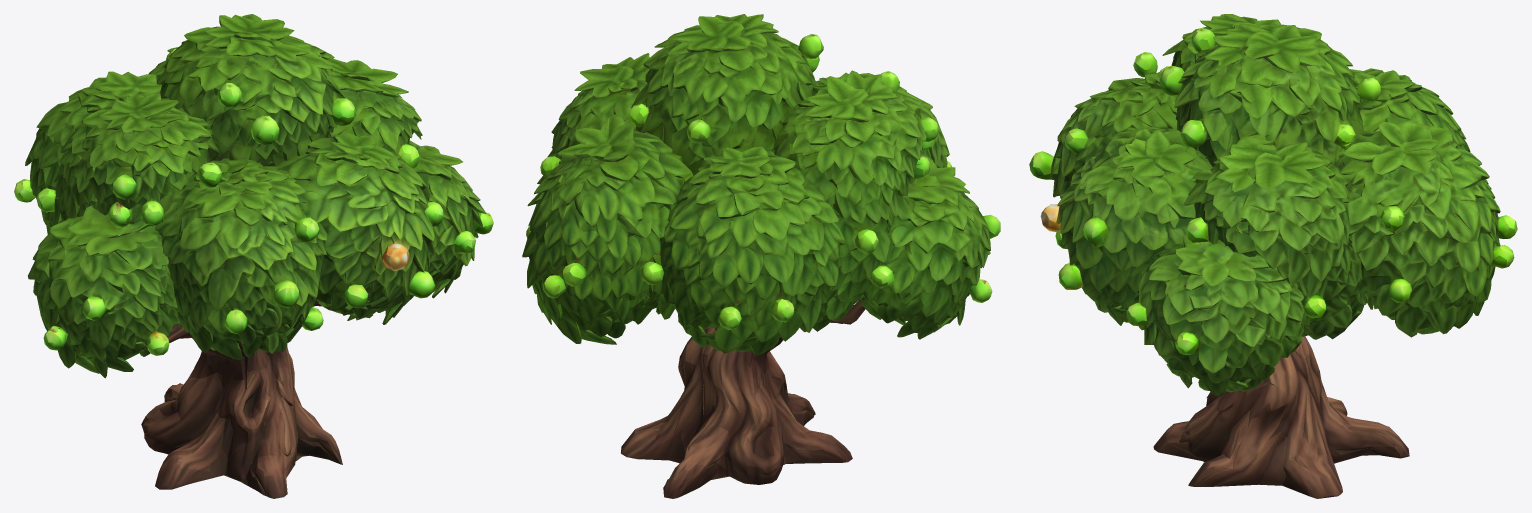
The model's file is et_bigtree.glb.
The picture shows the model from 3 angles, left to right: view 1: azimuth 30°, elevation 25°; view 2: azimuth 150°, elevation 25°; view 3: azimuth 270°, elevation 25°; orthographic projection.
Size of the model in its own units: 1.89 by 1.74 by 1.82.
1 material, 1 textured.
